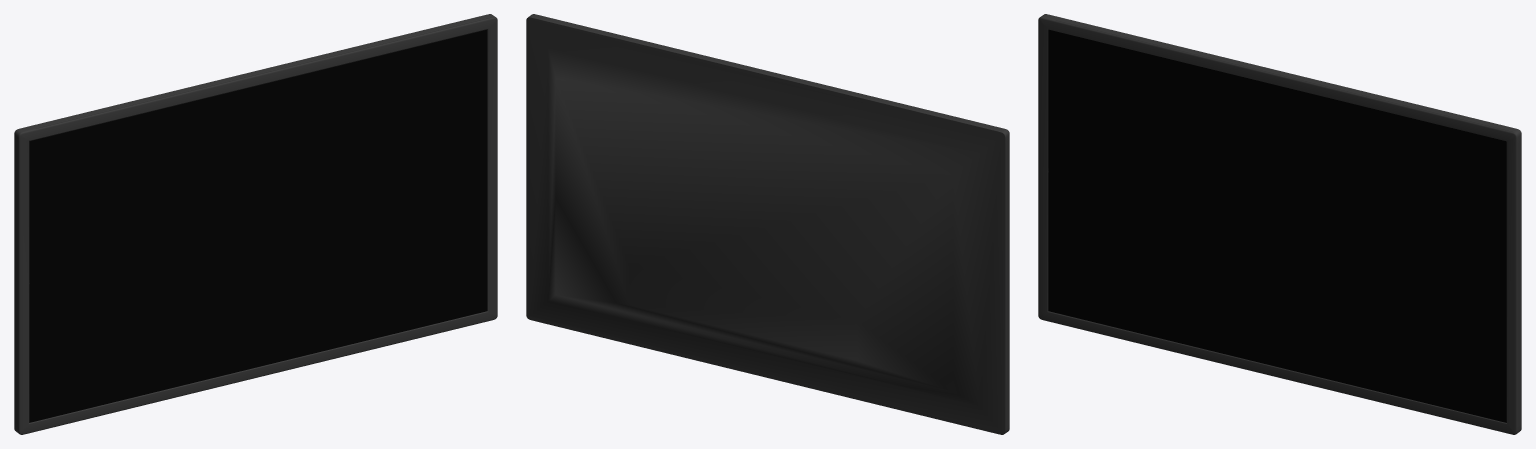
The picture shows the model from 3 angles, left to right: view 1: azimuth 30°, elevation 25°; view 2: azimuth 150°, elevation 25°; view 3: azimuth 330°, elevation 25°; orthographic projection.
Parts seen in each view (by area): view 1: TV; view 2: TV; view 3: TV.
Part boxes in pixels (x1,y1,x2,y2): TV: (14,14,497,434); TV: (526,14,1009,434); TV: (1038,14,1521,434).
Size of the model in its own units: 353 by 213 by 34.86.
2 materials, 2 textured.
